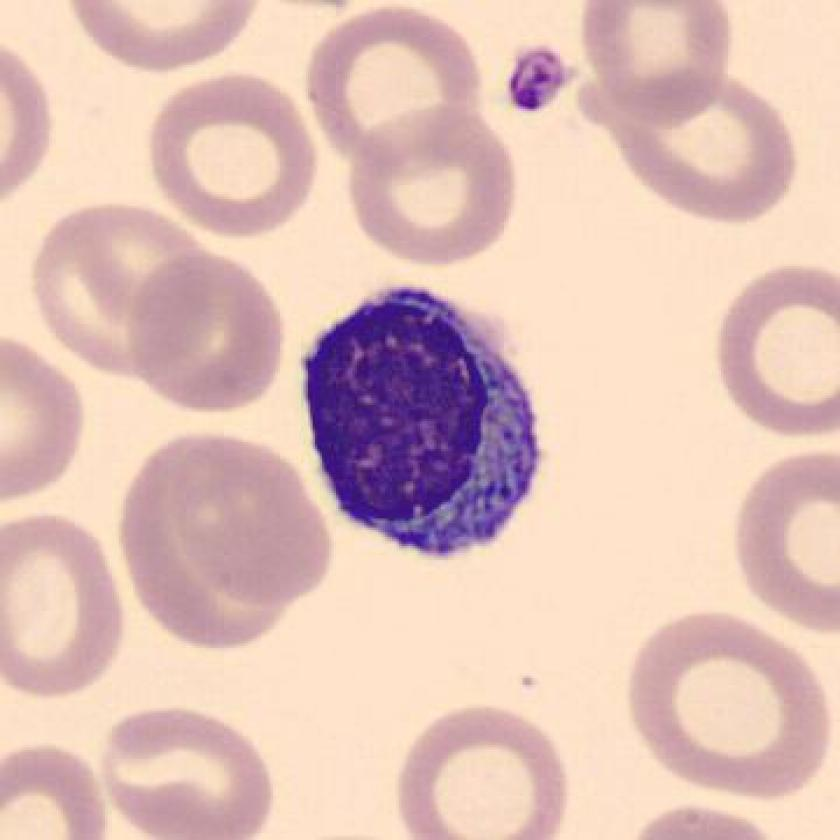lymphocyte: (286, 274, 561, 580)
platelets: (501, 43, 573, 115)
